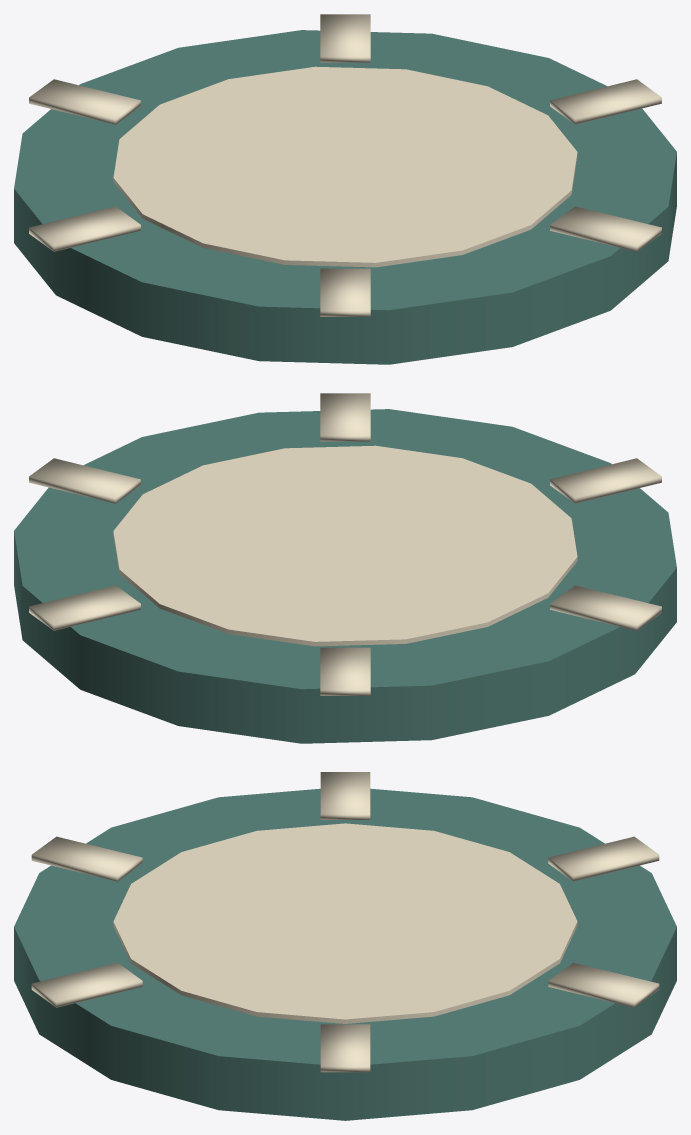
The model's file is chips.glb.
3 renders of one model, top to bottom at view 1: azimuth 30°, elevation 25°; view 2: azimuth 150°, elevation 25°; view 3: azimuth 270°, elevation 25°, orthographic.
Parts seen in each view (by area): view 1: prop_chips; view 2: prop_chips; view 3: prop_chips.
Boxes of the visible parts, x1,y1,x2,y2 form: prop_chips: (14,14,676,364); prop_chips: (14,393,676,743); prop_chips: (14,772,676,1120).
Size of the model in its own units: 0.042 by 0.0041 by 0.04.
